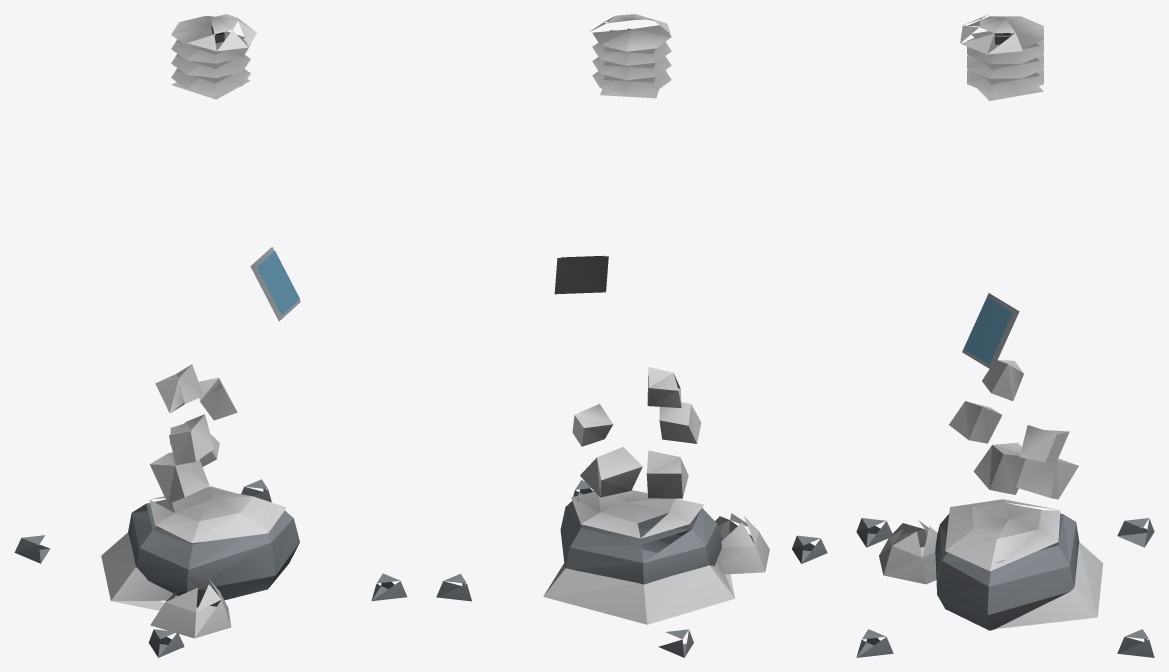
File: mast.lod.glb
3 renders of one model, left to right at view 1: azimuth 30°, elevation 25°; view 2: azimuth 150°, elevation 25°; view 3: azimuth 270°, elevation 25°, orthographic. The views are drawn at different scales.
Parts seen in each view (by area): view 1: mast; view 2: mast; view 3: mast.
Part boxes in pixels (x1=…): mast: x1=14, y1=14, x2=407, y2=657; mast: x1=436, y1=14, x2=827, y2=657; mast: x1=856, y1=14, x2=1154, y2=657.
Size of the model in its own units: 2 by 4.27 by 2.
